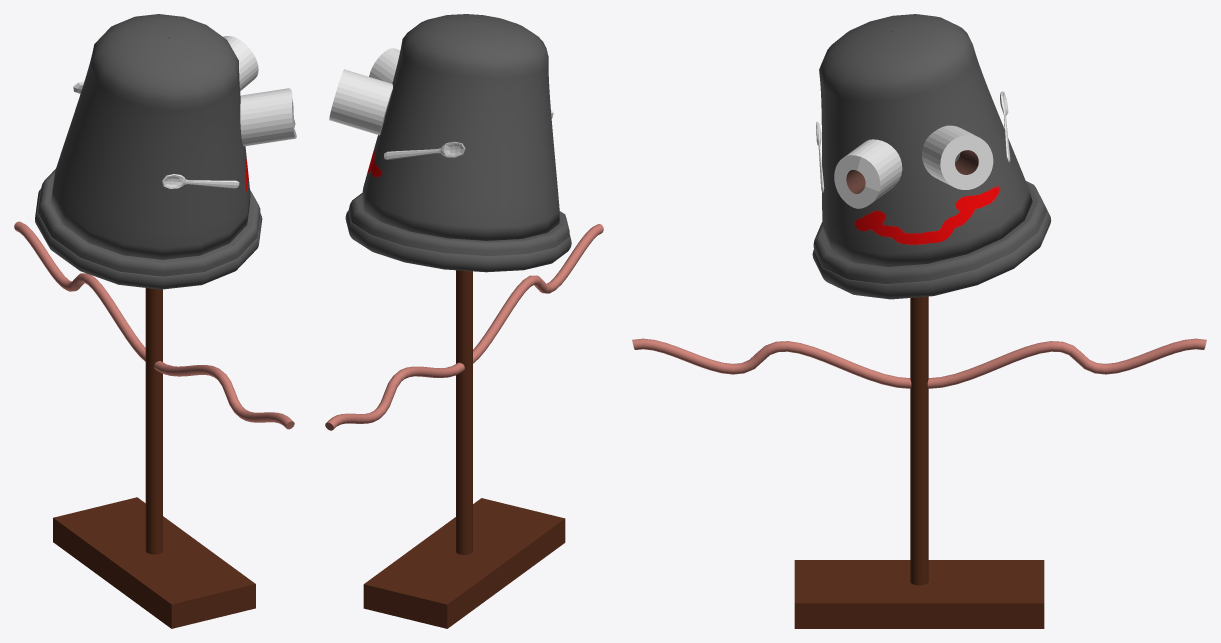
File: muñeco trolo.fbx
3 views of the same model, side by side, from view 1: azimuth 30°, elevation 25°; view 2: azimuth 150°, elevation 25°; view 3: azimuth 270°, elevation 25° (orthographic). The views are drawn at different scales.
Parts seen in each view (by area): view 1: BézierCurve, Cube.001, Cylinder.002, BézierCurve.001, Cylinder, Cube; view 2: BézierCurve, Cube.001, Cylinder.002, BézierCurve.001, Cylinder, Cube; view 3: BézierCurve, Cube.001, Cylinder, BézierCurve.001, Cylinder.002.
Part boxes in pixels (bbox=[...]): BézierCurve: bbox=[35, 14, 262, 289]; Cube.001: bbox=[53, 497, 255, 628]; Cylinder.002: bbox=[145, 288, 162, 554]; BézierCurve.001: bbox=[14, 221, 294, 429]; Cylinder: bbox=[223, 36, 296, 146]; Cube: bbox=[73, 81, 239, 188]; BézierCurve: bbox=[345, 14, 571, 272]; Cube.001: bbox=[363, 498, 565, 628]; Cylinder.002: bbox=[456, 270, 472, 554]; BézierCurve.001: bbox=[325, 224, 603, 430]; Cylinder: bbox=[329, 48, 400, 135]; Cube: bbox=[384, 110, 553, 159]; BézierCurve: bbox=[812, 14, 1051, 299]; Cube.001: bbox=[794, 560, 1044, 628]; Cylinder: bbox=[834, 125, 993, 208]; BézierCurve.001: bbox=[632, 338, 1206, 388]; Cylinder.002: bbox=[910, 296, 928, 585].
Bounding box in the file's own units: 42.92 × 105 × 94.28.
5 materials, 1 textured.
